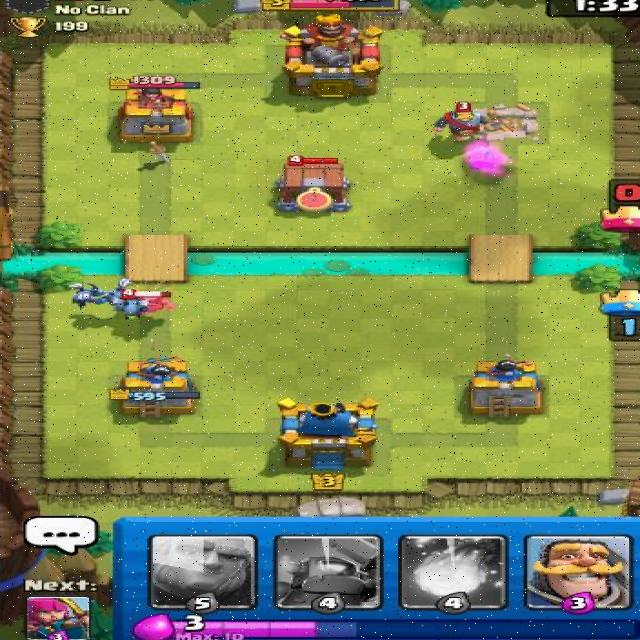Enemy-GoblinCage: (273, 154, 356, 213)
Enemy-MiniPEKKA: (120, 288, 176, 315)
Enemy-Musketeer: (431, 100, 491, 142)
Player-Minion: (95, 276, 138, 309), (64, 281, 105, 310), (111, 295, 153, 321)
